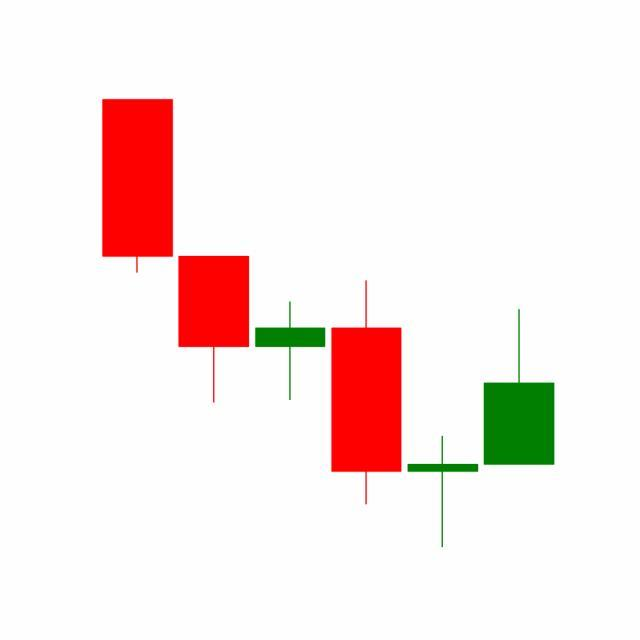Spinning Top: (404, 435, 482, 549)
